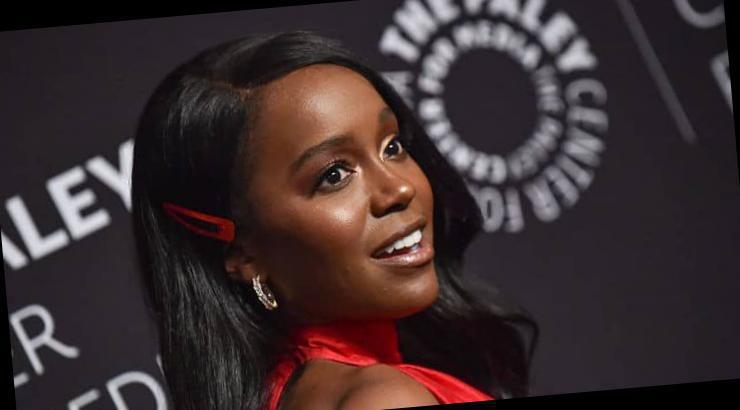Sober: (263, 84, 442, 304)
